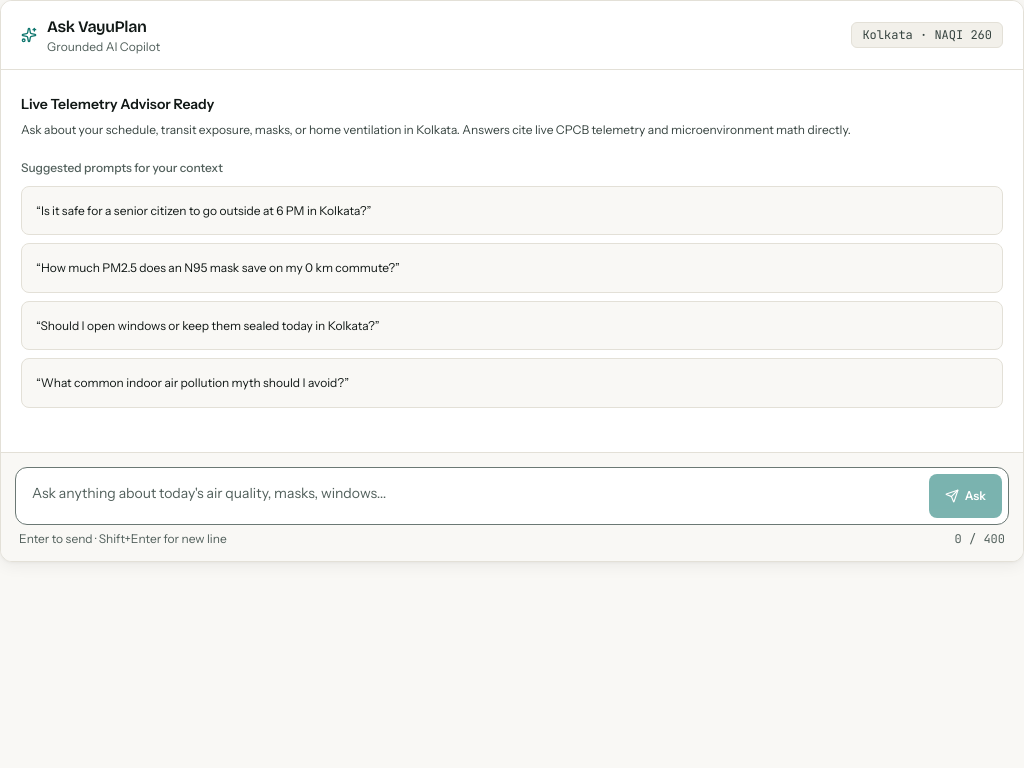
Test: GroundedChat Component › submits question to /api/assistant/chat and displays grounded answer with metrics
In the text box with placeholder "Ask anything about today's air quality, masks, windows...": (471, 496) [22, 474, 921, 518], type "Can I go for an evening walk?"
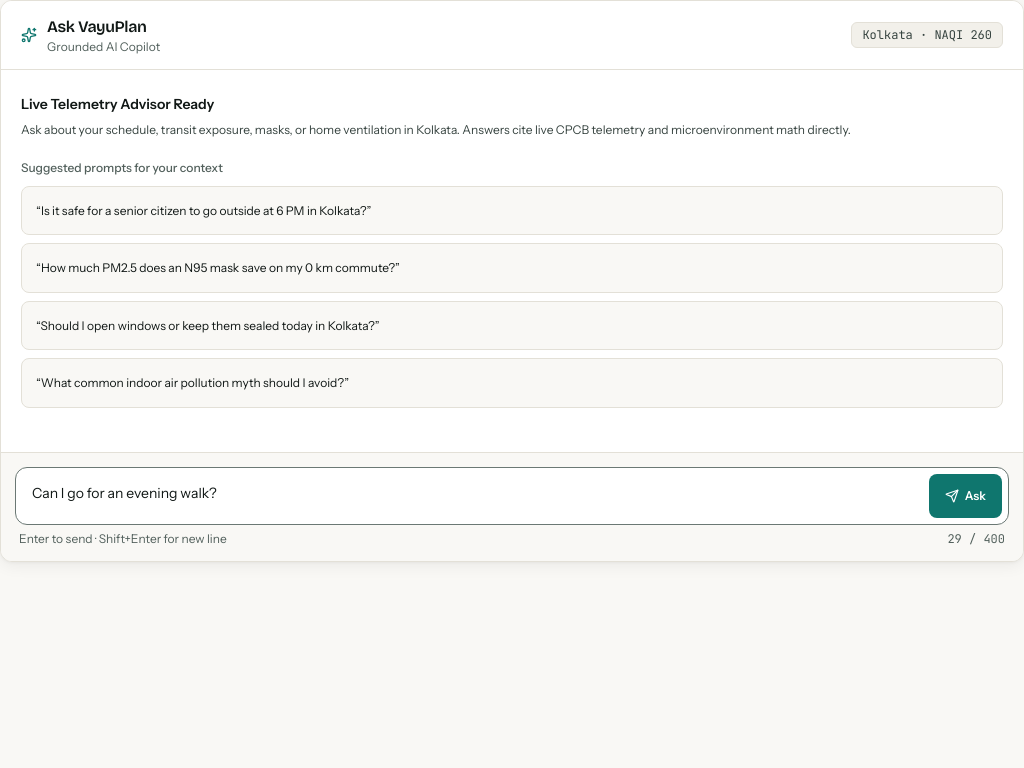
Click the button with aria-label "send question": (965, 496) [929, 474, 1002, 518]
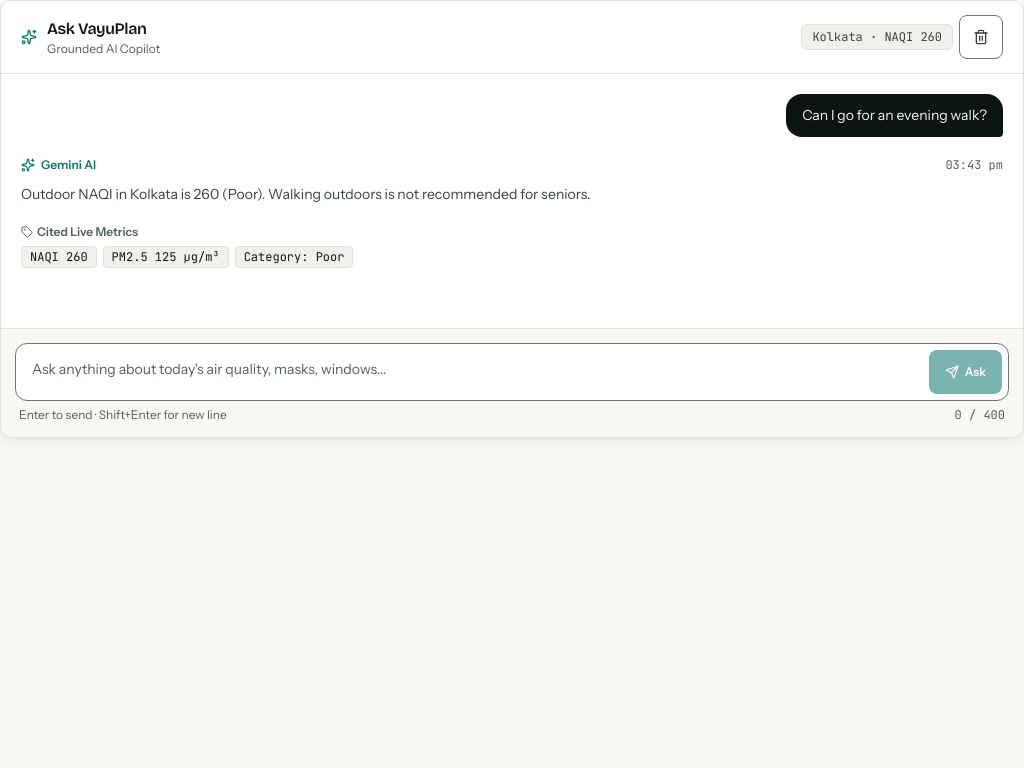
Check: the text "Can I go for an evening walk?" is shown, box [786, 94, 1003, 137]
Check: the text "Outdoor NAQI in Kolkata is 260" is shown, box [21, 185, 591, 203]
Check: the text "NAQI 260" is shown, box [21, 246, 97, 268]
